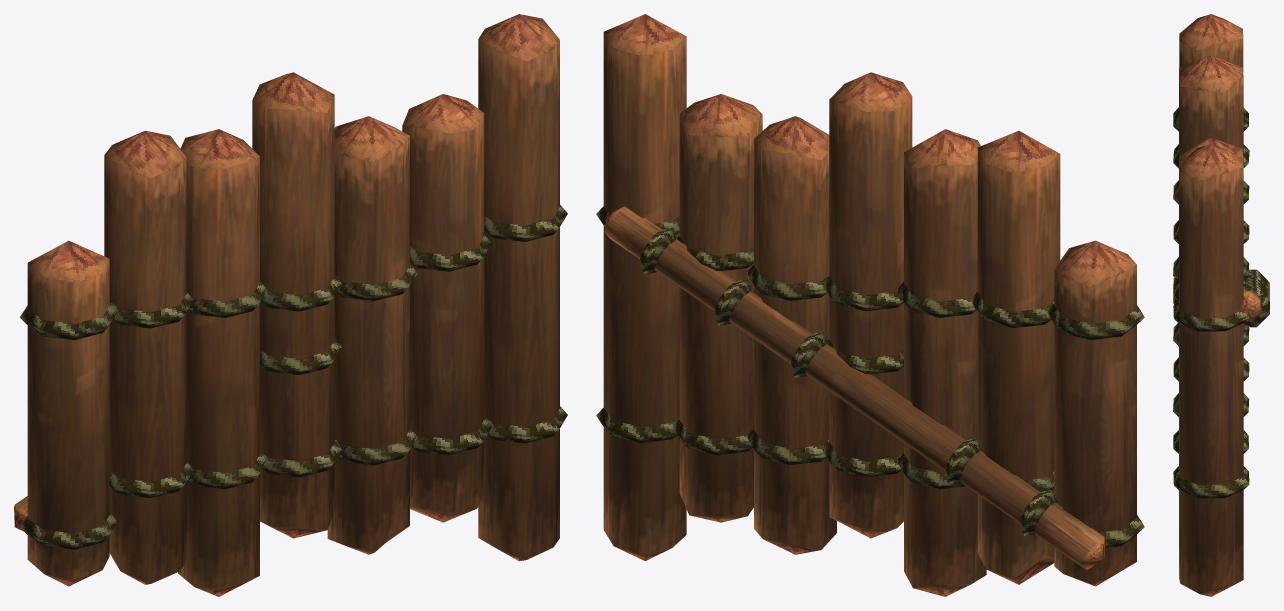
Rendered from INST_TROLLHOLE_TROLLDOOR.fbx.
3 renders of one model, left to right at view 1: azimuth 30°, elevation 25°; view 2: azimuth 150°, elevation 25°; view 3: azimuth 270°, elevation 25°, orthographic. The views are drawn at different scales.
Parts seen in each view (by area): view 1: INST_TROLLHOLE_TROLLDOOR; view 2: INST_TROLLHOLE_TROLLDOOR; view 3: INST_TROLLHOLE_TROLLDOOR.
Part boxes in pixels (x1=…): INST_TROLLHOLE_TROLLDOOR: x1=14, y1=14, x2=567, y2=596; INST_TROLLHOLE_TROLLDOOR: x1=596, y1=14, x2=1144, y2=596; INST_TROLLHOLE_TROLLDOOR: x1=1173, y1=14, x2=1269, y2=596.
Size of the model in its own units: 41362 by 40817 by 7905.
3 materials, 3 textured.
